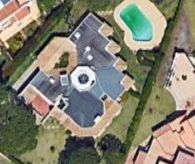pool: (124, 7, 152, 39)
